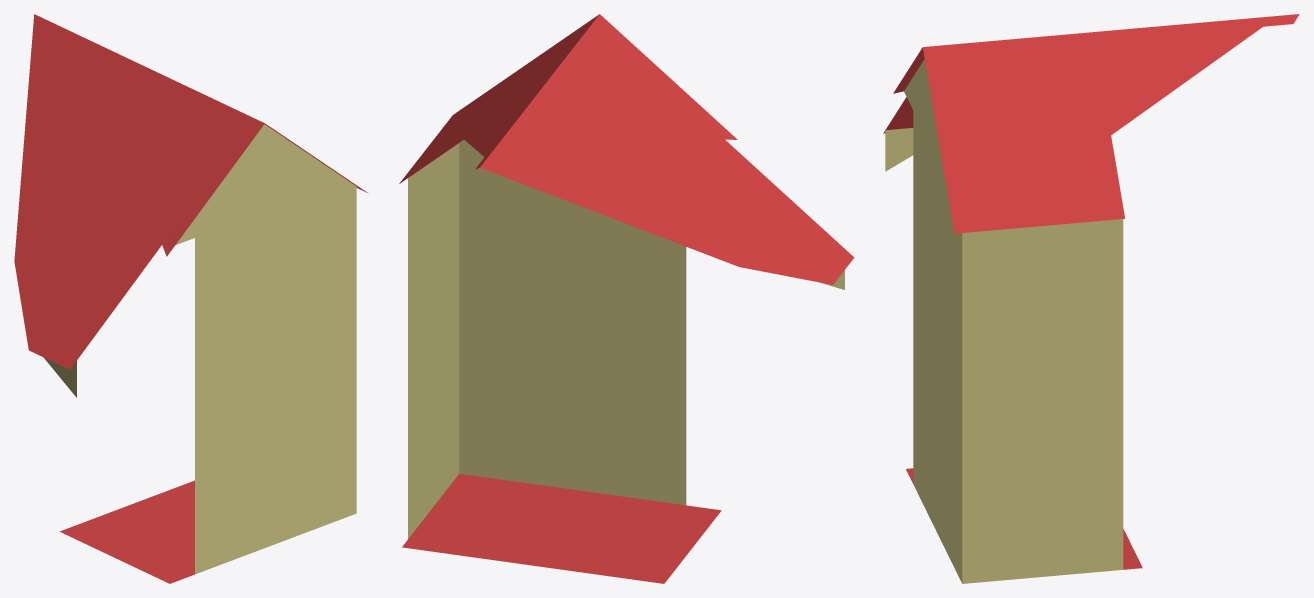
The picture shows the model from 3 angles, left to right: view 1: azimuth 30°, elevation 25°; view 2: azimuth 150°, elevation 25°; view 3: azimuth 270°, elevation 25°; orthographic projection. The views are drawn at different scales.
Size of the model in its own units: 10.81 by 10.25 by 12.96.
